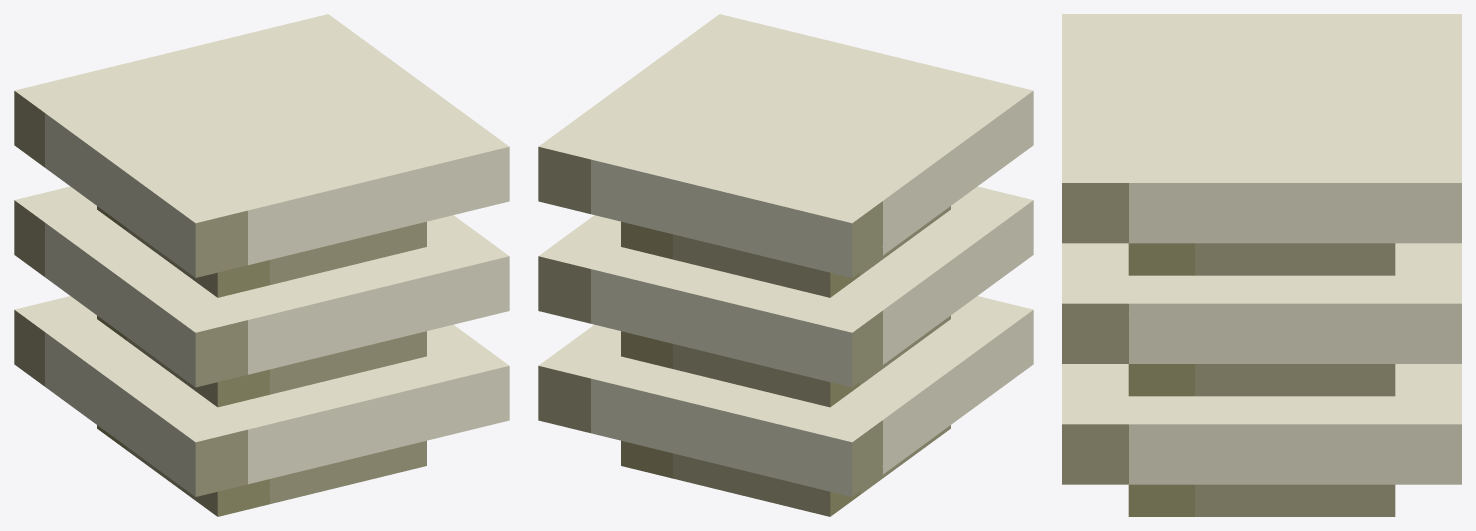
File: int_kitchen_stuff0ao.fezao.glb
3 renders of one model, left to right at view 1: azimuth 30°, elevation 25°; view 2: azimuth 150°, elevation 25°; view 3: azimuth 270°, elevation 25°, orthographic. The views are drawn at different scales.
Visible parts, largest first — view 1: INT_KITCHEN_STUFF0AO; view 2: INT_KITCHEN_STUFF0AO; view 3: INT_KITCHEN_STUFF0AO.
Boxes of the visible parts, box(x1,y1,x2,y2) form: INT_KITCHEN_STUFF0AO: box(14, 14, 509, 516); INT_KITCHEN_STUFF0AO: box(538, 14, 1033, 516); INT_KITCHEN_STUFF0AO: box(1062, 14, 1461, 516).
Bounding box in the file's own units: 0.375 × 0.375 × 0.375.
Materials: 1 (1 with a texture image).
